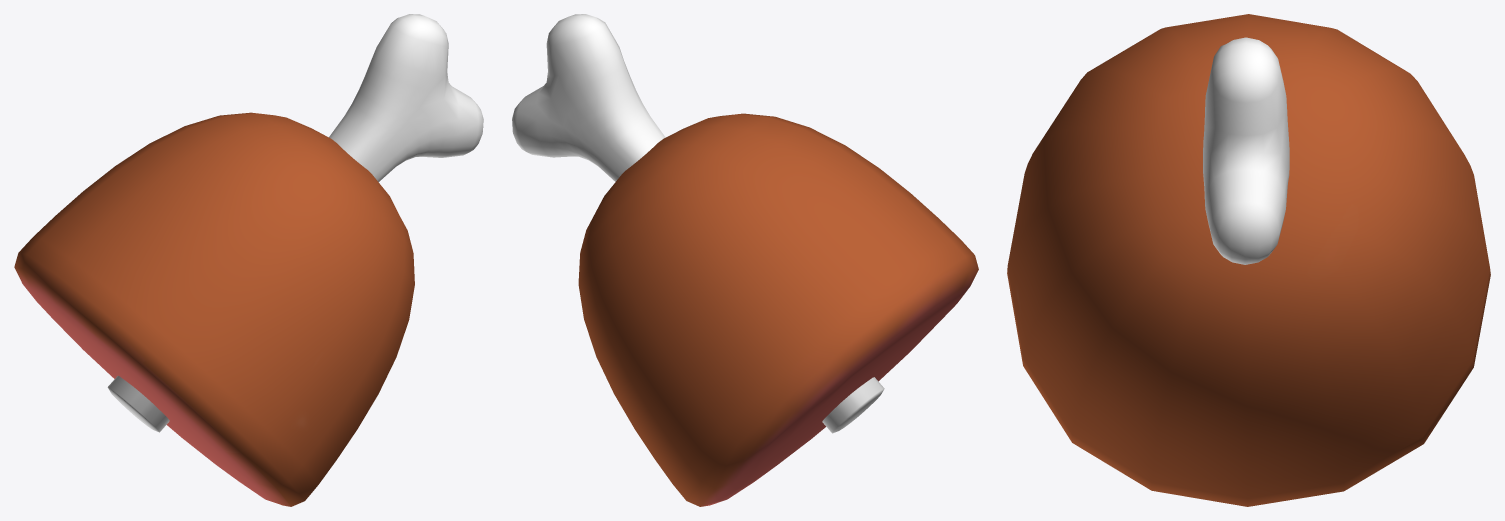
The model's file is meat.fbx.
3 views of the same model, side by side, from view 1: azimuth 30°, elevation 25°; view 2: azimuth 150°, elevation 25°; view 3: azimuth 270°, elevation 25° (orthographic). The views are drawn at different scales.
Parts seen in each view (by area): view 1: meat; view 2: meat; view 3: meat.
Boxes of the visible parts, x1,y1,x2,y2 form: meat: [14, 14, 483, 506]; meat: [512, 14, 978, 506]; meat: [1007, 14, 1490, 506].
Bounding box in the file's own units: 62.3 × 60.14 × 46.92.
1 material, 1 textured.
